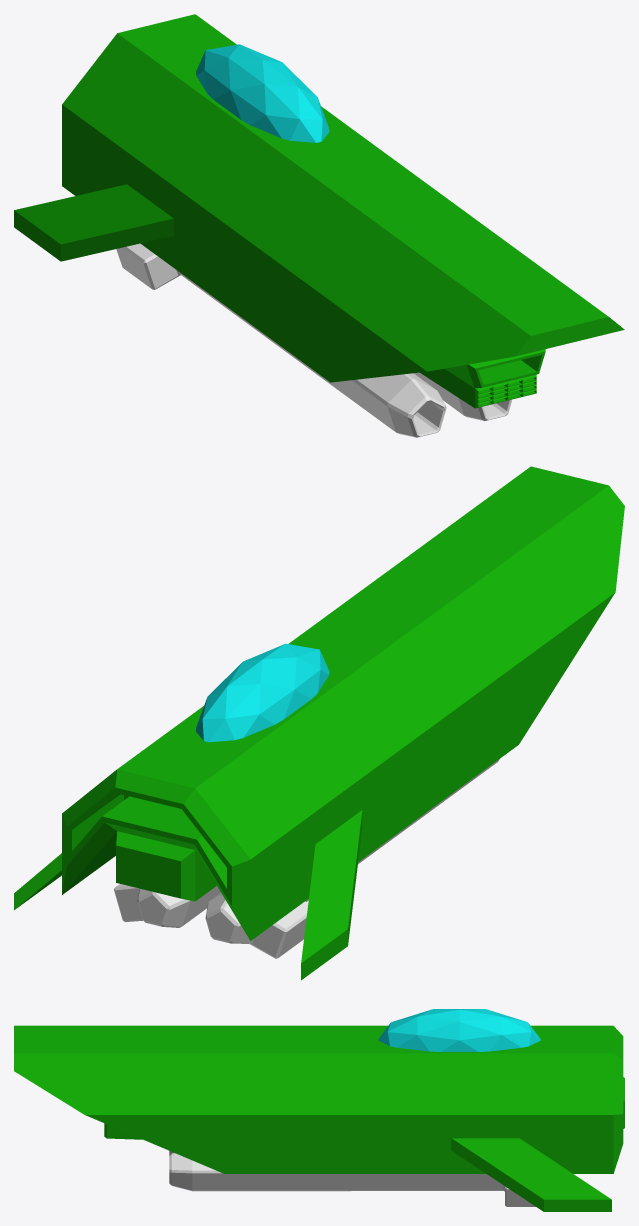
File: ShipAold.fbx
3 renders of one model, top to bottom at view 1: azimuth 30°, elevation 25°; view 2: azimuth 150°, elevation 25°; view 3: azimuth 270°, elevation 25°, orthographic. The views are drawn at different scales.
Parts seen in each view (by area): view 1: Body, Cockpit, Barrel; view 2: Body, Cockpit, Barrel; view 3: Body, Barrel, Cockpit.
Boxes of the visible parts, x1,y1,x2,y2 form: Body: (14, 14, 624, 408); Cockpit: (196, 44, 329, 142); Barrel: (116, 243, 512, 437); Body: (14, 466, 624, 980); Cockpit: (195, 643, 329, 742); Barrel: (114, 759, 499, 958); Body: (14, 1025, 624, 1211); Barrel: (169, 1151, 535, 1206); Cockpit: (378, 1009, 540, 1051).
Size of the model in its own units: 281 by 221 by 716.
